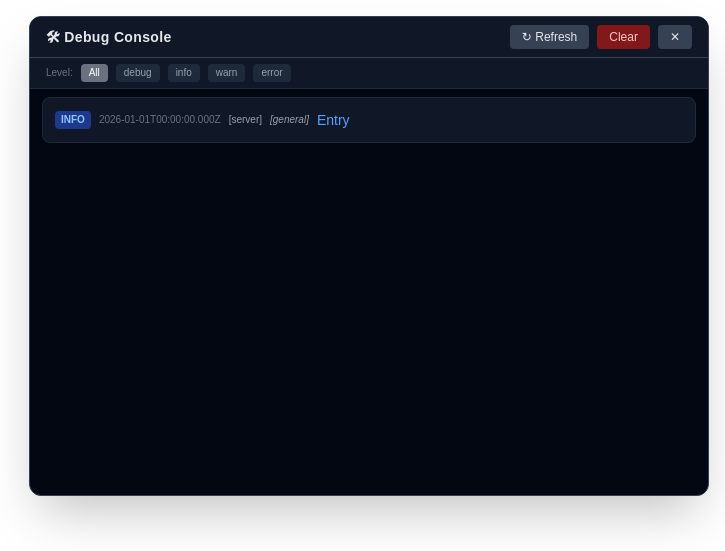
Test: DebugPanel — safe failure › shows an error banner when the DELETE request fails with a non-ok status
Expected: the text "Entry" is shown, [317,112,350,128]
Click the button "Clear" at (624,37), box [597,25,650,49]
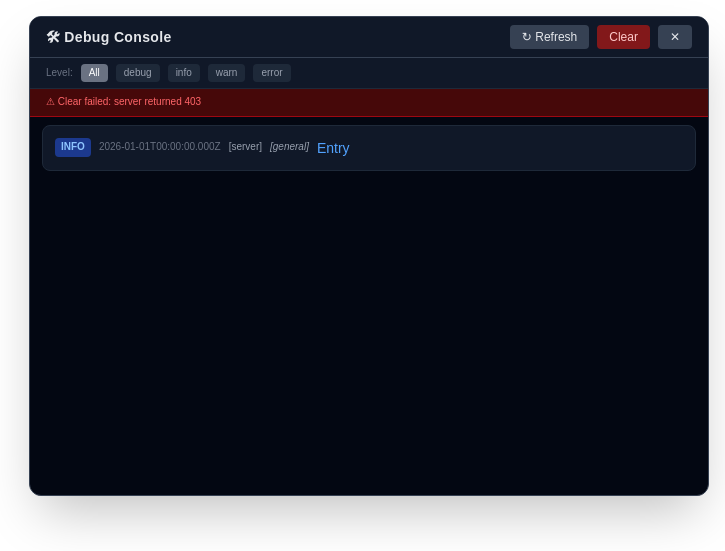
Now the text "⚠ Clear failed: server returned 403" is shown, box [30,89,708,117]
